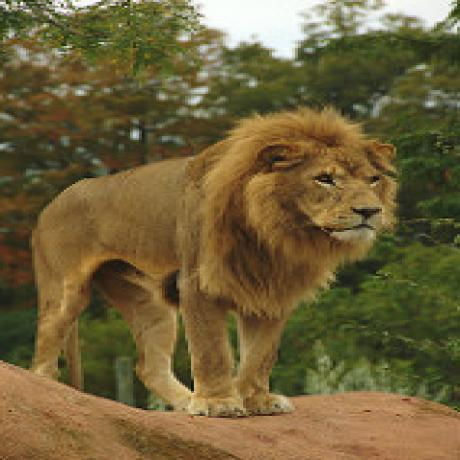Lion: (32, 106, 402, 416)
